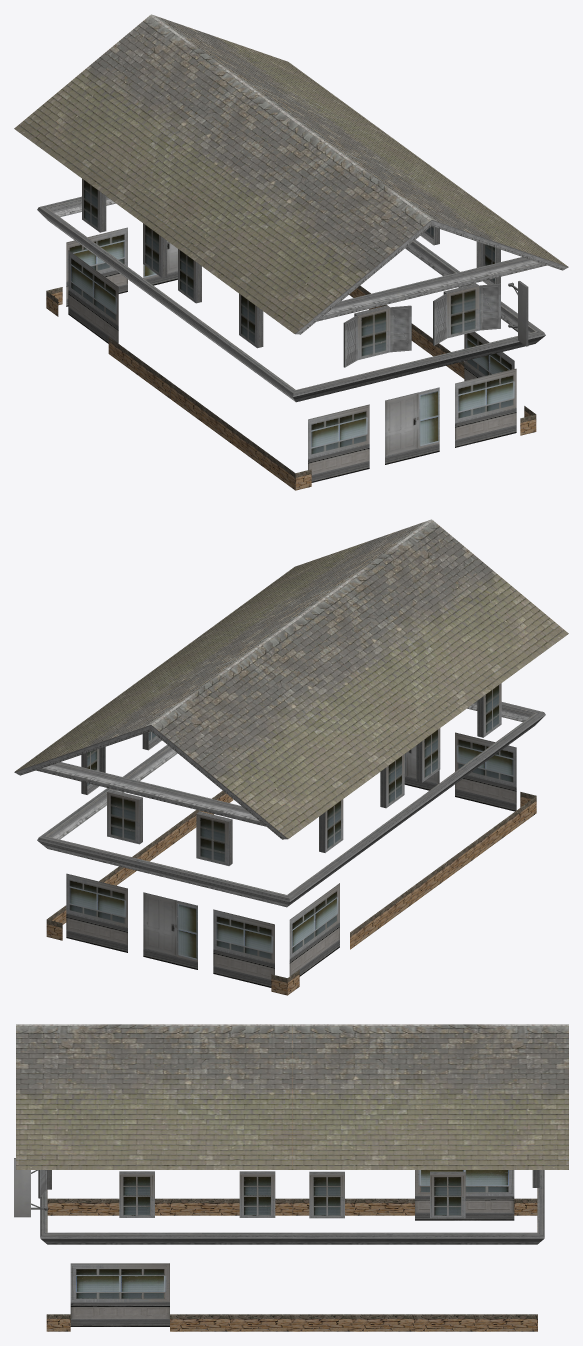
The model's file is rural_woodenbuilding_5_rural_housetrim_1_0_lev2.glb.
The picture shows the model from 3 angles, top to bottom: view 1: azimuth 30°, elevation 25°; view 2: azimuth 150°, elevation 25°; view 3: azimuth 270°, elevation 25°; orthographic projection.
Parts seen in each view (by area): view 1: rural_woodenbuilding_5_rural_housetrim_1_0_lev2; view 2: rural_woodenbuilding_5_rural_housetrim_1_0_lev2; view 3: rural_woodenbuilding_5_rural_housetrim_1_0_lev2.
Boxes of the visible parts, left/top/right/bottom form: rural_woodenbuilding_5_rural_housetrim_1_0_lev2: left=14, top=14, right=568, bottom=490; rural_woodenbuilding_5_rural_housetrim_1_0_lev2: left=14, top=519, right=568, bottom=995; rural_woodenbuilding_5_rural_housetrim_1_0_lev2: left=14, top=1024, right=568, bottom=1331.
Size of the model in its own units: 6.79 by 5.98 by 12.07.
Materials: 1 (1 with a texture image).
